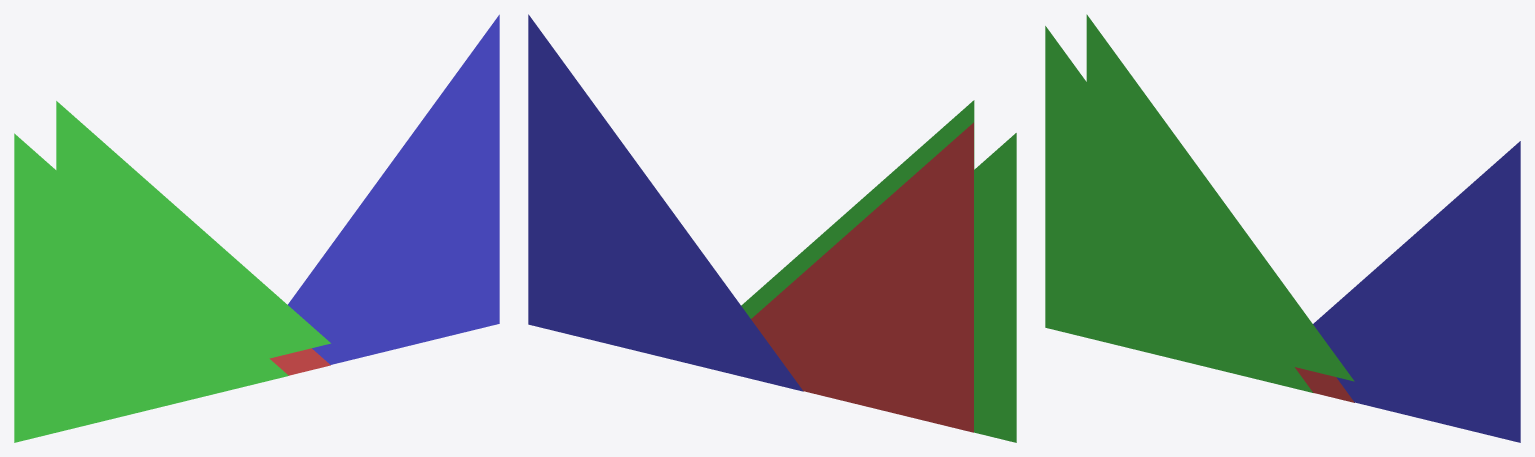
The model's file is HierarchyTest.gltf.
The picture shows the model from 3 angles, left to right: view 1: azimuth 30°, elevation 25°; view 2: azimuth 150°, elevation 25°; view 3: azimuth 330°, elevation 25°; orthographic projection. The views are drawn at different scales.
Bounding box in the file's own units: 115 × 75 × 0.3.
